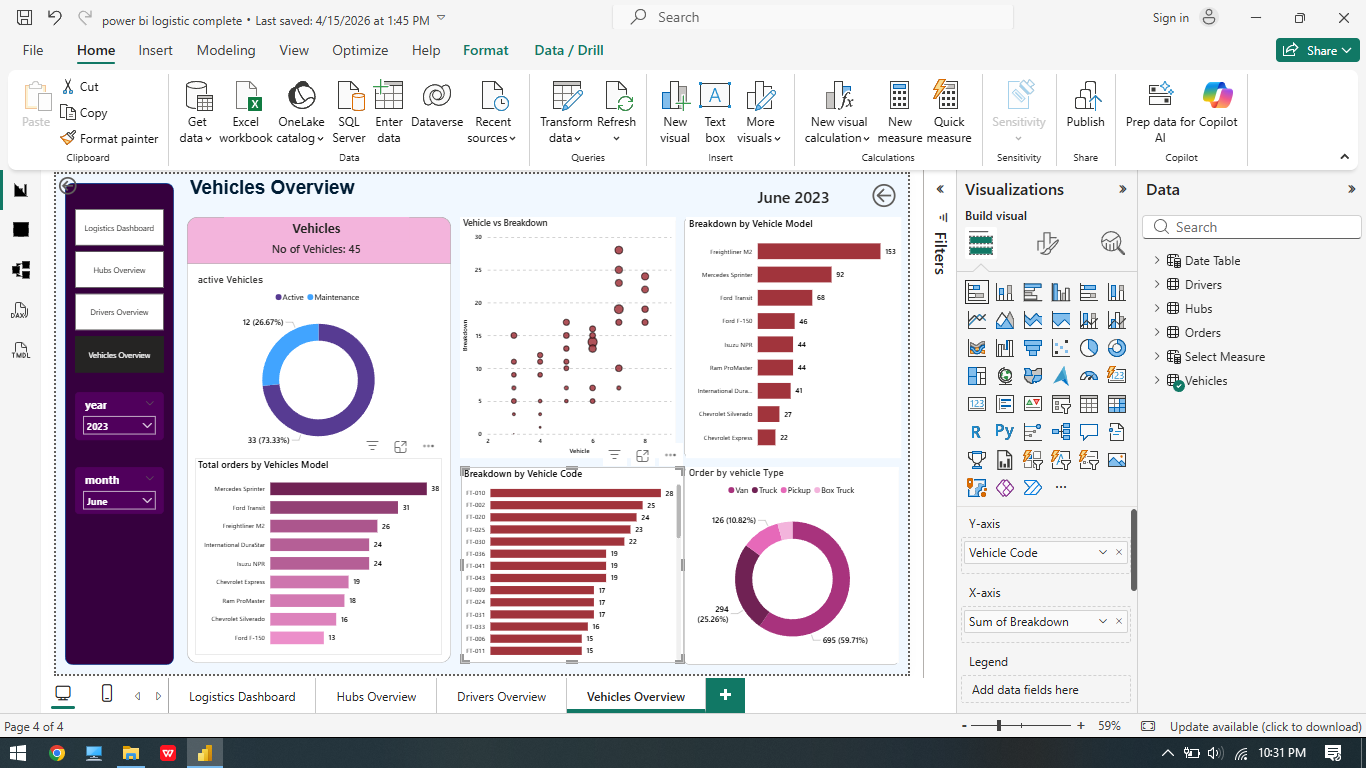

Layout of this report page (visuals, bound fields, positions):
{"tool":"powerbi","page":{"name":"Vehicles Overview","canvas":[1450,850],"ordinal":3},"visuals":[{"type":"shape","box":[15.3,15.3,185.3,819.4],"z":0},{"type":"textbox","box":[222.7,0,324.7,59.5],"z":1000},{"type":"slicer","fields":{"Values":["Date Table.year"]},"box":[32.3,370.6,151.3,81.6],"z":2000},{"type":"slicer","fields":{"Values":["Date Table.month"]},"box":[32.3,498.1,151.3,79.9],"z":3000},{"type":"actionButton","box":[0,0,100,40],"z":4000},{"type":"shape","box":[222.7,73.1,448.8,758.2],"z":5000},{"type":"shape","box":[686.8,73.1,367.2,409.7],"z":6000},{"type":"shape","box":[222.7,73.1,448.8,79.9],"z":7000},{"type":"textbox","box":[285.6,73.1,314.5,40.8],"z":8000},{"type":"cardVisual","fields":{"Data":["Vehicles.No of Vehicles"]},"box":[340,98.6,205.7,54.4],"z":9000},{"type":"donutChart","title":"active Vehicles","fields":{"Category":["Vehicles.Vehicle Status"],"Y":["CountNonNull(Vehicles.Vehicle ID)"]},"box":[236.3,170,419.9,312.8],"z":10000},{"type":"barChart","title":"Total orders by Vehicles Model","fields":{"Category":["Vehicles.Vehicle Model"],"Y":["Orders.total orders"]},"box":[236.3,482.8,419.9,334.9],"z":11000},{"type":"cardVisual","fields":{"Data":["Orders.Year Month Title"]},"box":[1113.5,0,280.5,73.1],"z":12000},{"type":"shape","box":[1067.6,73.1,365.5,409.7],"z":13000},{"type":"scatterChart","title":" Vehicle vs Breakdown","fields":{"X":["Vehicles.Vehicle"],"Y":["Vehicles.Breakdown"],"Size":["Sum(Vehicles.Breakdown)1"]},"box":[686.8,73.1,367.2,409.7],"z":14000},{"type":"shape","box":[688.5,498.1,365.5,333.2],"z":15000},{"type":"barChart","title":"Breakdown by Vehicle Code","fields":{"Category":["Vehicles.Vehicle Code"],"Y":["Sum(Vehicles.Breakdown)"]},"box":[688.5,498.1,379.1,333.2],"z":16000},{"type":"barChart","title":"Breakdown by Vehicle Model","fields":{"Y":["Sum(Vehicles.Breakdown)"],"Category":["Vehicles.Vehicle Model"]},"box":[1071,73.1,365.5,409.7],"z":17000},{"type":"shape","box":[1067.6,498.1,365.5,336.6],"z":18000},{"type":"donutChart","title":"Order by vehicle Type","fields":{"Category":["Orders.Vehicle Type"],"Y":["Orders.total orders"]},"box":[1071,498.1,362.1,333.2],"z":19000},{"type":"pageNavigator","box":[32.3,59.5,151.3,278.8],"z":20000},{"type":"actionButton","box":[1382.1,5.1,51,62.9],"z":21000}]}

Visuals, with their boxes on the page's 1450x850 design canvas (x1, y1, x2, y2). These are canvas units, not pixel positions in the 1366x768 screenshot, which may show the page scaled, cropped or inside an application window:
shape: pyautogui.locateOnScreen(15, 15, 201, 835)
textbox: pyautogui.locateOnScreen(223, 0, 547, 60)
slicer - Date Table.year: pyautogui.locateOnScreen(32, 371, 184, 452)
slicer - Date Table.month: pyautogui.locateOnScreen(32, 498, 184, 578)
actionButton: pyautogui.locateOnScreen(0, 0, 100, 40)
shape: pyautogui.locateOnScreen(223, 73, 672, 831)
shape: pyautogui.locateOnScreen(687, 73, 1054, 483)
shape: pyautogui.locateOnScreen(223, 73, 672, 153)
textbox: pyautogui.locateOnScreen(286, 73, 600, 114)
cardVisual - Vehicles.No of Vehicles: pyautogui.locateOnScreen(340, 99, 546, 153)
"active Vehicles" donutChart: pyautogui.locateOnScreen(236, 170, 656, 483)
"Total orders by Vehicles Model" barChart: pyautogui.locateOnScreen(236, 483, 656, 818)
cardVisual - Orders.Year Month Title: pyautogui.locateOnScreen(1114, 0, 1394, 73)
shape: pyautogui.locateOnScreen(1068, 73, 1433, 483)
" Vehicle vs Breakdown" scatterChart: pyautogui.locateOnScreen(687, 73, 1054, 483)
shape: pyautogui.locateOnScreen(688, 498, 1054, 831)
"Breakdown by Vehicle Code" barChart: pyautogui.locateOnScreen(688, 498, 1068, 831)
"Breakdown by Vehicle Model" barChart: pyautogui.locateOnScreen(1071, 73, 1436, 483)
shape: pyautogui.locateOnScreen(1068, 498, 1433, 835)
"Order by vehicle Type" donutChart: pyautogui.locateOnScreen(1071, 498, 1433, 831)
pageNavigator: pyautogui.locateOnScreen(32, 60, 184, 338)
actionButton: pyautogui.locateOnScreen(1382, 5, 1433, 68)
